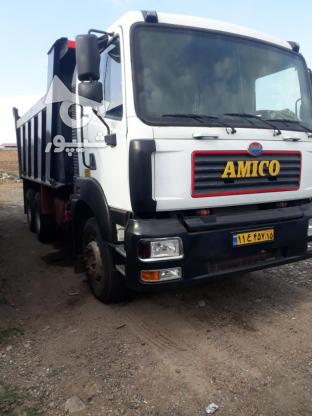car: (230, 228, 275, 246)
